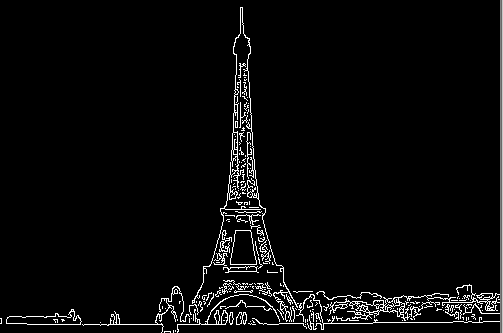eiffel tower: (165, 1, 312, 323)
